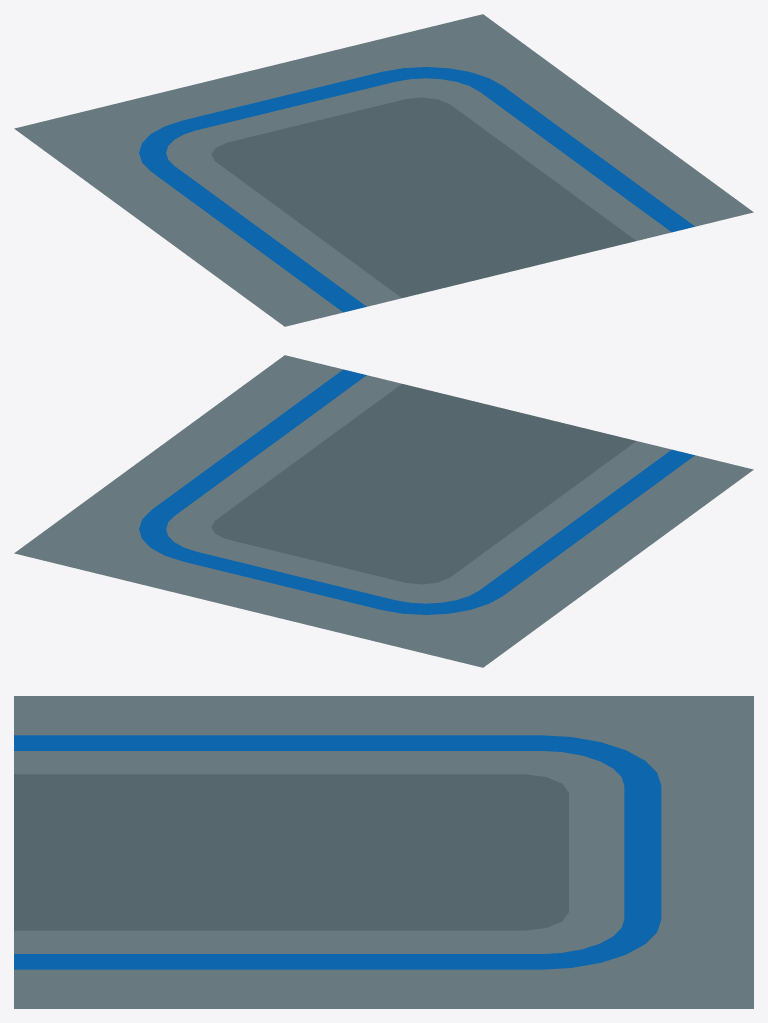
Rendered from Ceiling_type_C_042.fbx.
The picture shows the model from 3 angles, top to bottom: view 1: azimuth 30°, elevation 25°; view 2: azimuth 150°, elevation 25°; view 3: azimuth 270°, elevation 25°; orthographic projection. The views are drawn at different scales.
Parts seen in each view (by area): view 1: Ceiling_type_C_042; view 2: Ceiling_type_C_042; view 3: Ceiling_type_C_042.
Part boxes in pixels (<box>): Ceiling_type_C_042: <box>14,14,753,326</box>; Ceiling_type_C_042: <box>14,355,753,667</box>; Ceiling_type_C_042: <box>14,696,753,1008</box>.
Size of the model in its own units: 400 by 400 by 1.2.
